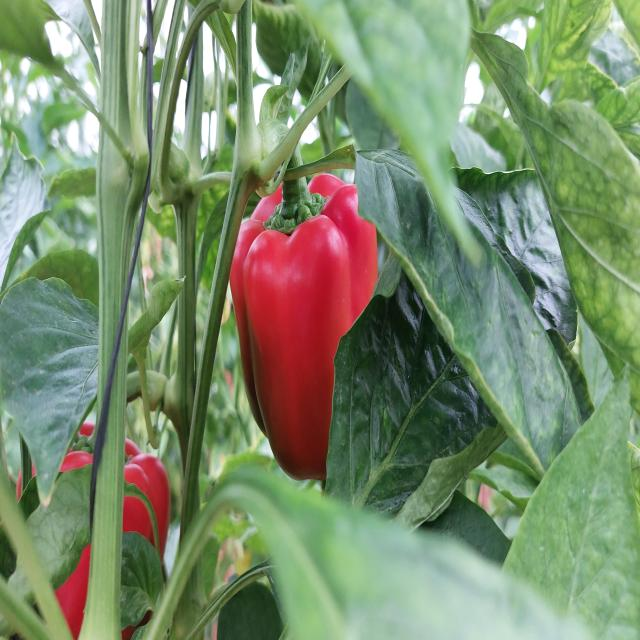Red-Ready-to-Harvest: (241, 177, 401, 496), (31, 440, 166, 629)
